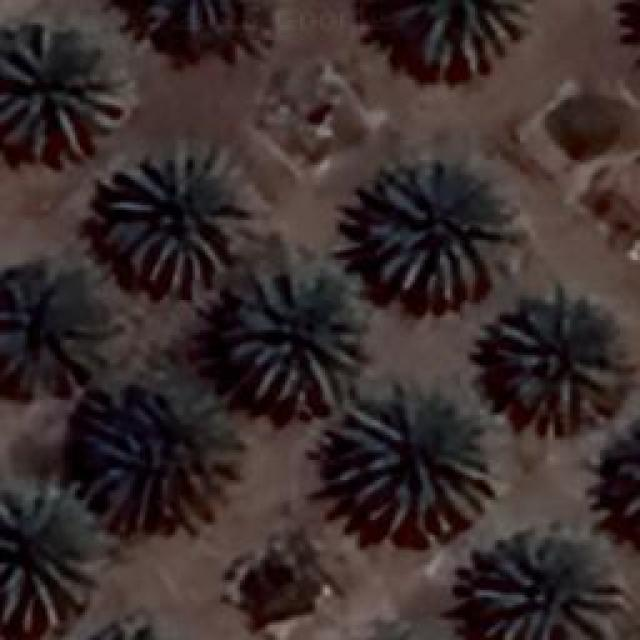PalmTree: (330, 382, 490, 542), (80, 385, 245, 533), (100, 142, 250, 296), (222, 272, 368, 412), (364, 165, 498, 305), (492, 292, 626, 432), (2, 28, 130, 162), (470, 538, 622, 638), (0, 482, 102, 627), (360, 0, 531, 85), (0, 260, 110, 392), (128, 0, 262, 70), (583, 413, 640, 554), (76, 608, 183, 640)
